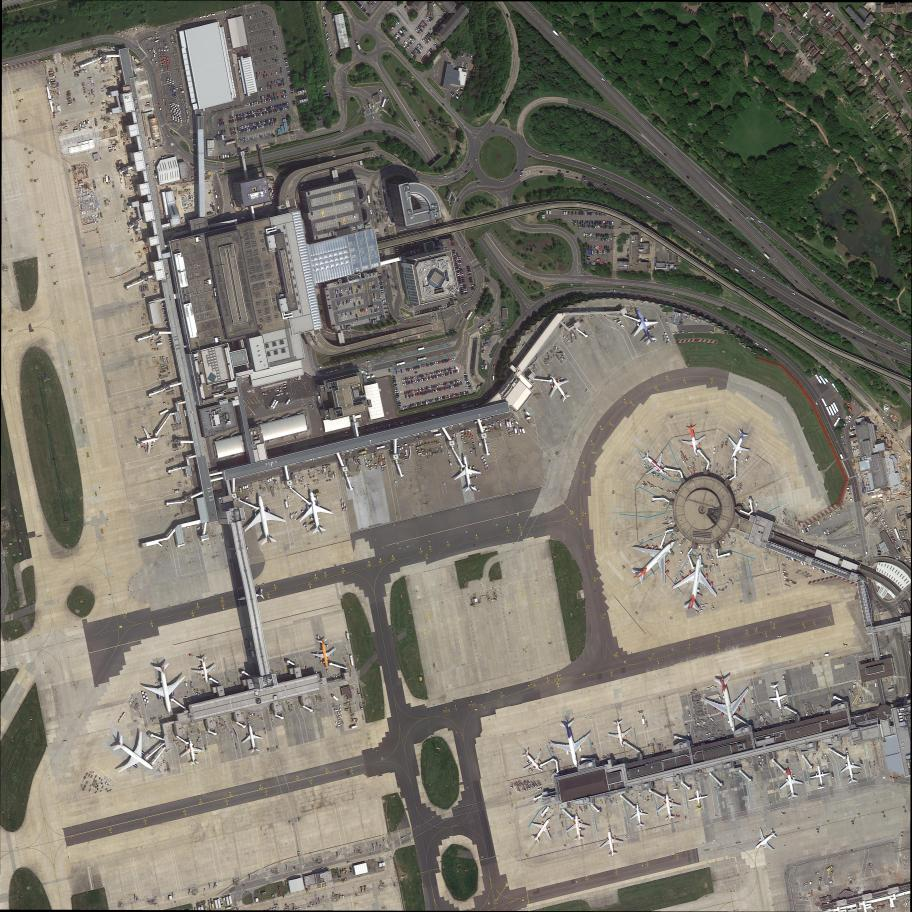large-vehicle: (893, 528, 901, 541), (833, 417, 841, 428), (815, 374, 823, 384), (819, 375, 827, 385), (828, 406, 835, 416), (833, 402, 839, 413), (821, 398, 828, 407), (831, 404, 837, 414), (552, 30, 560, 37), (826, 407, 832, 416), (887, 687, 895, 693), (525, 783, 531, 790), (532, 781, 538, 788), (415, 120, 420, 127), (516, 786, 521, 793), (303, 522, 309, 527), (521, 786, 526, 792), (513, 782, 518, 788), (890, 679, 894, 686), (823, 653, 830, 657), (842, 643, 849, 647), (826, 528, 830, 535), (794, 520, 798, 527), (526, 780, 531, 785), (529, 784, 534, 789), (162, 356, 166, 362), (167, 357, 170, 364), (787, 520, 790, 527), (522, 782, 526, 787), (874, 681, 877, 687), (160, 356, 163, 362), (510, 782, 513, 788), (785, 518, 787, 525), (276, 394, 280, 397)
plane: (614, 520, 695, 600), (100, 716, 174, 792), (699, 667, 760, 738), (133, 656, 193, 722), (236, 485, 291, 557), (667, 549, 725, 617), (543, 711, 600, 776), (288, 480, 341, 544), (622, 298, 671, 355), (633, 443, 677, 487), (717, 424, 759, 470), (743, 819, 786, 862), (538, 367, 580, 410), (512, 741, 554, 783), (521, 808, 562, 851), (449, 451, 485, 498), (306, 633, 343, 672), (603, 715, 638, 755), (774, 762, 808, 802), (593, 824, 627, 861), (834, 748, 865, 788), (176, 734, 209, 771), (653, 787, 685, 825), (678, 423, 710, 460), (238, 720, 268, 758), (189, 653, 221, 688), (806, 758, 835, 795), (563, 810, 593, 845), (626, 799, 652, 831), (684, 785, 712, 813), (766, 682, 791, 712)
small-vehicle: (524, 410, 530, 417), (513, 420, 519, 425), (889, 528, 894, 534), (750, 216, 755, 221), (878, 52, 883, 57), (294, 511, 299, 516), (907, 449, 912, 454), (456, 198, 460, 204), (184, 681, 188, 687), (145, 104, 151, 108), (154, 39, 160, 43), (249, 126, 253, 132), (687, 732, 691, 738), (518, 427, 522, 433), (404, 420, 410, 424), (430, 47, 434, 52), (427, 50, 431, 55), (323, 21, 327, 26), (326, 36, 330, 41), (428, 88, 433, 92), (387, 130, 392, 134), (404, 29, 408, 34), (395, 33, 399, 38), (300, 183, 304, 188), (763, 347, 768, 351), (663, 152, 667, 157), (757, 220, 762, 224), (823, 7, 827, 12), (843, 419, 848, 423), (905, 87, 910, 91), (900, 79, 905, 83), (801, 61, 805, 66), (514, 169, 518, 174), (646, 195, 651, 199), (603, 183, 608, 187), (509, 136, 514, 140), (456, 92, 461, 96), (455, 95, 459, 100), (461, 125, 466, 129), (852, 336, 857, 340), (844, 377, 849, 381), (894, 429, 899, 433), (900, 439, 904, 444), (848, 415, 853, 419), (847, 417, 852, 421), (820, 317, 825, 321), (697, 230, 702, 234), (734, 268, 739, 272), (751, 269, 756, 273), (773, 258, 777, 263), (794, 306, 799, 310), (815, 871, 820, 875), (620, 324, 625, 328), (679, 551, 684, 555), (669, 521, 674, 525), (478, 326, 483, 330), (879, 497, 884, 501), (880, 518, 885, 522), (823, 531, 827, 536), (800, 539, 805, 543), (379, 200, 382, 206), (859, 697, 862, 703), (120, 178, 123, 184), (640, 237, 643, 243), (478, 441, 481, 447), (401, 27, 405, 31), (388, 29, 392, 33), (397, 31, 401, 35), (400, 34, 404, 38), (401, 32, 405, 36), (400, 28, 404, 32), (409, 35, 413, 39), (409, 41, 413, 45), (418, 43, 422, 47), (417, 50, 421, 54), (412, 50, 416, 54), (411, 51, 415, 55), (417, 44, 421, 48), (419, 47, 423, 51), (418, 49, 422, 53), (410, 53, 414, 57), (393, 47, 397, 51), (397, 19, 401, 23), (358, 4, 362, 8), (360, 6, 364, 10), (362, 8, 366, 12), (365, 12, 369, 16), (420, 59, 424, 63), (421, 57, 425, 61), (420, 21, 424, 25), (421, 20, 425, 24), (424, 23, 428, 27), (423, 24, 427, 28), (415, 28, 419, 32), (422, 39, 426, 43), (426, 39, 430, 43), (429, 36, 433, 40), (424, 42, 428, 46), (418, 24, 422, 28), (417, 26, 421, 30), (430, 29, 434, 33), (433, 44, 437, 48), (422, 56, 426, 60), (426, 52, 430, 56), (425, 54, 429, 58), (424, 17, 428, 21), (425, 16, 429, 20), (416, 46, 420, 50), (329, 54, 333, 58), (363, 52, 367, 56), (329, 51, 333, 55), (379, 89, 383, 93), (322, 16, 326, 20), (394, 35, 398, 39), (399, 29, 403, 33), (396, 32, 400, 36), (408, 37, 412, 41), (411, 40, 415, 44), (412, 38, 416, 42), (404, 41, 408, 45), (403, 42, 407, 46), (402, 44, 406, 48), (359, 5, 363, 9), (428, 32, 432, 36), (825, 9, 829, 13), (772, 30, 776, 34), (760, 2, 764, 6), (686, 175, 690, 179), (828, 16, 832, 20), (834, 26, 838, 30), (777, 17, 781, 21), (821, 5, 825, 9), (839, 27, 843, 31), (805, 49, 809, 53), (897, 115, 901, 119), (799, 59, 803, 63), (866, 35, 870, 39), (888, 79, 892, 83), (885, 42, 889, 46), (865, 34, 869, 38), (877, 78, 881, 82), (847, 419, 851, 423), (464, 170, 468, 174), (441, 103, 445, 107), (656, 201, 660, 205), (859, 330, 863, 334), (874, 343, 878, 347), (876, 408, 880, 412), (882, 416, 886, 420), (728, 218, 732, 222), (746, 272, 750, 276), (748, 277, 752, 281), (245, 496, 249, 500), (292, 511, 296, 515), (155, 682, 159, 686), (175, 743, 179, 747), (744, 458, 748, 462), (755, 342, 759, 346), (532, 784, 536, 788), (523, 780, 527, 784), (467, 428, 471, 432), (488, 424, 492, 428), (487, 231, 491, 235), (460, 292, 464, 296), (397, 317, 401, 321), (402, 317, 406, 321), (464, 302, 468, 306), (463, 247, 467, 251), (884, 524, 888, 528), (885, 527, 889, 531), (890, 535, 894, 539), (892, 538, 896, 542), (897, 547, 901, 551), (898, 549, 902, 553), (882, 521, 886, 525), (879, 516, 883, 520), (401, 836, 405, 840), (358, 431, 362, 435), (366, 429, 370, 433), (462, 53, 465, 58), (433, 2, 436, 7), (326, 31, 329, 36), (372, 105, 375, 110), (372, 115, 375, 120), (386, 209, 389, 214), (396, 20, 399, 25), (373, 200, 376, 205), (375, 208, 378, 213), (240, 217, 245, 220), (353, 214, 356, 219), (332, 218, 335, 223), (688, 8, 691, 13), (689, 9, 692, 14), (842, 424, 847, 427), (855, 448, 858, 453), (846, 487, 851, 490), (847, 489, 852, 492), (868, 7, 871, 12), (851, 425, 854, 430), (520, 170, 525, 173), (443, 175, 448, 178), (591, 167, 596, 170), (582, 179, 587, 182), (459, 89, 464, 92), (506, 13, 509, 18), (825, 324, 830, 327), (841, 426, 846, 429), (723, 258, 728, 261), (737, 257, 742, 260), (762, 287, 767, 290), (791, 292, 796, 295), (287, 502, 290, 507), (283, 386, 288, 389), (222, 154, 225, 159), (227, 153, 230, 158), (335, 674, 338, 679), (248, 127, 251, 132), (230, 202, 233, 207), (155, 175, 158, 180), (217, 205, 220, 210), (162, 309, 167, 312), (146, 102, 151, 105), (87, 119, 90, 124), (809, 881, 812, 886), (83, 121, 86, 126), (112, 146, 117, 149), (266, 94, 269, 99), (270, 97, 273, 102), (256, 76, 259, 81), (282, 90, 285, 95), (274, 117, 277, 122), (829, 513, 832, 518), (434, 374, 437, 379), (408, 394, 411, 399), (451, 357, 454, 362), (419, 364, 422, 369), (405, 367, 408, 372), (402, 382, 405, 387), (427, 372, 430, 377), (439, 369, 442, 374), (437, 370, 440, 375), (616, 321, 621, 324), (755, 503, 758, 508), (460, 381, 463, 386), (458, 382, 461, 387), (499, 422, 502, 427), (594, 224, 597, 229), (467, 273, 472, 276), (383, 270, 386, 275), (421, 309, 424, 314), (424, 308, 427, 313), (426, 308, 429, 313), (431, 307, 434, 312), (414, 310, 417, 315), (463, 290, 468, 293), (445, 303, 448, 308), (442, 304, 445, 309), (877, 550, 882, 553), (877, 553, 882, 556), (865, 551, 868, 556), (383, 254, 386, 259), (433, 242, 436, 247), (405, 252, 408, 257), (449, 462, 452, 467), (460, 430, 465, 433), (448, 301, 451, 306), (403, 405, 406, 410), (425, 400, 428, 405), (329, 370, 334, 373), (333, 369, 338, 372), (379, 388, 382, 393), (416, 402, 419, 407), (397, 38, 400, 42), (415, 47, 418, 51), (416, 52, 420, 55), (414, 49, 417, 53), (414, 54, 417, 58), (390, 28, 393, 32), (392, 25, 396, 28), (404, 5, 407, 9), (421, 46, 425, 49), (368, 13, 371, 17), (367, 1, 370, 5), (393, 24, 397, 27), (416, 27, 419, 31), (419, 30, 422, 34), (428, 19, 432, 22), (420, 28, 423, 32), (419, 23, 423, 26), (439, 20, 443, 23), (427, 20, 430, 24), (424, 55, 427, 59), (429, 49, 432, 53), (435, 42, 438, 46), (470, 55, 473, 59), (465, 63, 468, 67), (443, 50, 446, 54), (407, 44, 410, 48), (405, 47, 408, 51), (324, 24, 327, 28), (323, 19, 326, 23), (285, 61, 289, 64), (285, 65, 289, 68), (286, 68, 290, 71), (287, 70, 291, 73), (278, 59, 281, 63), (385, 205, 388, 209), (372, 1, 375, 5), (403, 31, 406, 35), (370, 4, 373, 8), (407, 38, 410, 42), (408, 43, 412, 46), (338, 222, 341, 226), (331, 232, 334, 236), (684, 6, 687, 10), (778, 23, 781, 27), (789, 30, 792, 34), (830, 14, 834, 17), (691, 11, 694, 15), (853, 450, 856, 454), (693, 12, 696, 16), (846, 485, 850, 488), (686, 7, 689, 11), (424, 36, 427, 40), (884, 88, 887, 92), (901, 100, 904, 104), (898, 110, 901, 114), (898, 113, 902, 116), (821, 756, 824, 760), (854, 679, 857, 683), (856, 711, 860, 714), (857, 49, 861, 52), (814, 60, 818, 63), (805, 65, 808, 69), (863, 3, 867, 6), (856, 46, 860, 49), (881, 55, 884, 59), (849, 426, 852, 430), (453, 178, 457, 181), (520, 174, 524, 177), (565, 170, 569, 173), (575, 176, 579, 179), (582, 175, 586, 178), (476, 182, 480, 185), (458, 91, 462, 94), (428, 37, 431, 41), (460, 87, 464, 90), (502, 101, 505, 105), (450, 92, 453, 96), (452, 93, 455, 97), (606, 188, 610, 191), (669, 207, 673, 210), (903, 348, 907, 351), (878, 337, 882, 340), (885, 352, 889, 355), (794, 280, 798, 283), (707, 237, 710, 241), (771, 279, 775, 282), (761, 246, 764, 250), (284, 58, 288, 61), (217, 131, 220, 135), (293, 517, 296, 521), (282, 383, 286, 386), (216, 156, 219, 160), (197, 527, 201, 530), (197, 693, 201, 696), (186, 700, 190, 703), (178, 745, 181, 749), (213, 137, 216, 141), (283, 52, 287, 55), (254, 122, 257, 126), (271, 118, 274, 122), (272, 122, 275, 126), (270, 122, 273, 126), (220, 130, 223, 134), (193, 143, 197, 146), (153, 160, 156, 164), (154, 146, 158, 149), (829, 881, 833, 884), (79, 124, 82, 128), (81, 122, 83, 128), (108, 147, 112, 150), (248, 103, 251, 107), (253, 102, 256, 106), (264, 99, 267, 103), (282, 107, 285, 111), (278, 108, 281, 112), (272, 106, 275, 110), (245, 112, 248, 116), (260, 112, 263, 116), (276, 92, 279, 96), (279, 83, 282, 87), (277, 96, 280, 100), (262, 74, 265, 78), (280, 91, 283, 95), (260, 87, 263, 91), (278, 79, 281, 83), (281, 95, 284, 99), (284, 90, 287, 94), (233, 127, 236, 131), (275, 105, 278, 109), (292, 100, 296, 103), (218, 119, 221, 123), (228, 120, 231, 124), (236, 127, 239, 131), (236, 118, 239, 122), (239, 117, 242, 121), (267, 107, 270, 111), (287, 106, 290, 110), (283, 103, 286, 107), (277, 104, 280, 108), (241, 117, 244, 121), (250, 111, 253, 115), (453, 384, 456, 388), (409, 390, 412, 394), (446, 372, 449, 376), (431, 375, 434, 379), (407, 381, 410, 385), (424, 377, 427, 381), (449, 371, 452, 375), (435, 370, 438, 374), (447, 368, 450, 372), (448, 385, 451, 389), (404, 395, 407, 399), (419, 388, 422, 392), (441, 383, 444, 387), (435, 388, 438, 392), (443, 386, 446, 390), (438, 387, 441, 391), (433, 388, 436, 392), (418, 392, 421, 396), (428, 389, 431, 393), (428, 363, 431, 367), (436, 361, 439, 365), (424, 363, 427, 367), (403, 378, 406, 382), (446, 358, 449, 362), (444, 359, 447, 363), (464, 374, 468, 377), (441, 359, 444, 363), (413, 376, 416, 380), (436, 374, 439, 378), (426, 377, 429, 381), (416, 379, 419, 383), (451, 371, 454, 375), (415, 375, 418, 379), (429, 372, 432, 376), (456, 369, 459, 373), (456, 379, 459, 383), (593, 245, 596, 249), (593, 260, 595, 266), (679, 559, 682, 563), (649, 539, 653, 542), (648, 534, 652, 537), (496, 420, 499, 424), (450, 385, 453, 389), (483, 418, 487, 421), (464, 292, 468, 295), (463, 288, 467, 291), (462, 284, 466, 287), (462, 280, 466, 283), (467, 269, 471, 272), (468, 277, 472, 280), (469, 279, 473, 282), (459, 287, 463, 290), (458, 281, 462, 284), (453, 255, 457, 258), (452, 251, 456, 254), (452, 253, 456, 256), (459, 267, 463, 270), (460, 269, 464, 272), (460, 271, 464, 274), (471, 288, 475, 291), (457, 256, 461, 259), (431, 316, 435, 319), (428, 308, 431, 312), (435, 306, 438, 310), (467, 271, 471, 274), (457, 274, 461, 277), (459, 285, 463, 288), (482, 324, 486, 327), (456, 252, 459, 256), (451, 244, 455, 247), (886, 529, 890, 532), (889, 534, 893, 537), (893, 540, 897, 543), (849, 498, 853, 501), (836, 551, 839, 555), (802, 528, 804, 534), (812, 543, 815, 547), (833, 551, 836, 555), (874, 516, 877, 520), (896, 546, 900, 549), (886, 499, 890, 502), (902, 467, 904, 473), (396, 252, 400, 255), (450, 238, 454, 241), (451, 242, 455, 245), (850, 433, 854, 436), (394, 481, 397, 485), (447, 450, 450, 454), (453, 433, 456, 437), (395, 248, 399, 251), (394, 387, 398, 390), (395, 389, 399, 392), (395, 391, 399, 394), (397, 400, 401, 403), (401, 407, 404, 411), (395, 370, 398, 374), (371, 428, 375, 431), (375, 427, 379, 430), (393, 423, 397, 426), (400, 422, 404, 425), (88, 77, 93, 79), (334, 39, 336, 44), (254, 60, 256, 65), (273, 30, 275, 35), (250, 15, 252, 20), (250, 40, 252, 45), (382, 214, 384, 219), (377, 219, 379, 224), (376, 212, 378, 217), (311, 211, 313, 216), (354, 226, 356, 231), (853, 684, 855, 689), (475, 157, 477, 162), (210, 203, 212, 208), (239, 138, 241, 143), (262, 120, 264, 125), (274, 121, 276, 126), (163, 316, 168, 318), (165, 325, 170, 327), (3, 64, 8, 66), (111, 66, 113, 71), (224, 129, 226, 134), (230, 127, 232, 132), (232, 115, 234, 120), (272, 109, 274, 114), (274, 96, 276, 101), (268, 93, 270, 98), (273, 92, 275, 97), (270, 85, 272, 90), (219, 122, 221, 127), (229, 115, 231, 120), (266, 123, 268, 128), (253, 126, 255, 131), (252, 126, 254, 131), (238, 117, 240, 122), (276, 108, 278, 113), (251, 114, 253, 119), (445, 372, 447, 377), (418, 378, 420, 383), (428, 376, 430, 381), (447, 385, 449, 390), (438, 383, 440, 388), (419, 374, 421, 379), (411, 366, 413, 371), (407, 367, 409, 372), (430, 362, 432, 367), (448, 371, 450, 376), (415, 379, 417, 384), (405, 377, 407, 382), (446, 368, 448, 373), (590, 232, 592, 237), (605, 220, 607, 225), (592, 250, 594, 255), (645, 259, 650, 261), (641, 539, 643, 544), (597, 211, 599, 216), (387, 274, 389, 279), (395, 285, 397, 290), (430, 307, 432, 312), (458, 284, 463, 286), (444, 304, 446, 309), (410, 241, 412, 246), (403, 444, 408, 446), (449, 454, 451, 459), (412, 250, 414, 255), (447, 303, 449, 308), (375, 272, 377, 277), (415, 402, 417, 407), (420, 401, 422, 406), (439, 396, 441, 401), (431, 414, 436, 416), (398, 37, 401, 40), (356, 2, 359, 5), (409, 55, 412, 58), (357, 3, 360, 6), (413, 56, 416, 59), (427, 34, 430, 37), (423, 38, 426, 41), (406, 46, 409, 49), (371, 3, 374, 6), (425, 35, 428, 38), (771, 29, 774, 32), (798, 58, 801, 61), (698, 2, 701, 5), (901, 111, 904, 114), (456, 94, 459, 97), (533, 11, 536, 14), (890, 350, 893, 353), (813, 317, 816, 320), (762, 276, 765, 279), (700, 243, 703, 246), (769, 245, 772, 248), (163, 402, 166, 405), (196, 692, 199, 695), (247, 124, 250, 127), (283, 95, 286, 98), (222, 122, 225, 125), (454, 370, 457, 373), (429, 386, 432, 389), (465, 378, 468, 381), (660, 739, 663, 742), (471, 286, 474, 289), (454, 259, 457, 262), (891, 537, 894, 540), (878, 528, 881, 531), (896, 544, 899, 547), (394, 385, 397, 388), (343, 435, 346, 438), (382, 425, 385, 428), (467, 54, 469, 58), (323, 7, 325, 11), (378, 191, 380, 195), (275, 59, 277, 63), (276, 71, 278, 75), (271, 73, 273, 77), (259, 72, 261, 76), (278, 55, 280, 59), (251, 28, 253, 32), (265, 12, 267, 16), (274, 35, 276, 39), (276, 47, 278, 51), (356, 226, 358, 230), (308, 191, 310, 195), (316, 236, 318, 240), (328, 233, 330, 237), (841, 438, 845, 440), (842, 440, 846, 442), (842, 442, 846, 444), (852, 446, 856, 448), (852, 448, 854, 452), (848, 491, 852, 493), (812, 753, 816, 755), (853, 425, 855, 429), (539, 171, 543, 173), (557, 170, 561, 172), (501, 180, 505, 182), (491, 131, 495, 133), (457, 87, 459, 91), (287, 76, 291, 78), (287, 74, 291, 76), (287, 495, 289, 499), (284, 488, 286, 492), (219, 156, 221, 160), (169, 344, 173, 346), (333, 674, 335, 678), (165, 751, 169, 753), (250, 714, 252, 718), (271, 718, 273, 722), (224, 135, 226, 139), (252, 122, 254, 126), (259, 122, 261, 126), (264, 120, 266, 124), (268, 119, 270, 123), (244, 129, 246, 133), (247, 128, 249, 132), (256, 126, 258, 130), (258, 125, 260, 129), (260, 125, 262, 129), (261, 125, 263, 129), (251, 122, 253, 126), (249, 123, 251, 127), (221, 122, 223, 126), (240, 138, 242, 142), (242, 138, 244, 142), (244, 137, 246, 141), (222, 130, 224, 134), (217, 122, 219, 126), (222, 118, 224, 122), (232, 128, 234, 132), (246, 124, 248, 128), (231, 132, 233, 136), (233, 131, 235, 135), (239, 130, 241, 134), (240, 126, 242, 130), (243, 125, 245, 129), (245, 125, 247, 129), (169, 342, 173, 344), (168, 337, 172, 339), (166, 329, 170, 331), (153, 166, 155, 170), (214, 189, 216, 193), (215, 194, 217, 198), (161, 303, 165, 305), (162, 307, 166, 309), (163, 314, 167, 316), (164, 321, 168, 323), (165, 327, 169, 329), (85, 70, 87, 74), (109, 150, 113, 152), (95, 160, 99, 162), (263, 125, 265, 129), (286, 106, 288, 110), (287, 102, 289, 106), (254, 114, 256, 118), (245, 104, 247, 108), (247, 103, 249, 107), (252, 102, 254, 106), (257, 101, 259, 105), (263, 99, 265, 103), (262, 95, 264, 99), (264, 95, 266, 99), (268, 98, 270, 102), (255, 110, 257, 114), (235, 119, 237, 123), (238, 114, 240, 118), (241, 113, 243, 117), (244, 113, 246, 117), (252, 111, 254, 115), (253, 110, 255, 114), (271, 106, 273, 110), (261, 108, 263, 112), (263, 108, 265, 112), (265, 108, 267, 112), (267, 111, 269, 115), (266, 99, 268, 103), (269, 98, 271, 102), (272, 97, 274, 101), (260, 96, 262, 100), (261, 100, 263, 104), (256, 72, 258, 76), (264, 71, 266, 75), (266, 74, 268, 78), (280, 70, 282, 74), (278, 83, 280, 87), (259, 88, 261, 92), (285, 94, 287, 98), (267, 86, 269, 90), (275, 84, 277, 88), (274, 80, 276, 84), (281, 82, 283, 86), (282, 78, 284, 82), (268, 82, 270, 86), (271, 81, 273, 85), (234, 114, 236, 118), (274, 105, 276, 109), (269, 122, 271, 126), (289, 85, 293, 87), (289, 87, 293, 89), (290, 88, 294, 90), (290, 90, 294, 92), (290, 92, 294, 94), (220, 118, 222, 122), (232, 119, 234, 123), (236, 114, 238, 118), (268, 123, 270, 127), (264, 124, 266, 128), (234, 131, 236, 135), (240, 130, 242, 134), (242, 129, 244, 133), (245, 128, 247, 132), (254, 126, 256, 130), (260, 121, 262, 125), (265, 120, 267, 124), (270, 118, 272, 122), (273, 118, 275, 122), (269, 106, 271, 110), (273, 109, 275, 113), (275, 109, 277, 113), (281, 107, 283, 111), (260, 108, 262, 112), (282, 103, 284, 107), (280, 104, 282, 108), (279, 104, 281, 108), (266, 107, 268, 111), (258, 109, 260, 113), (242, 113, 244, 117), (246, 116, 248, 120), (248, 115, 250, 119), (249, 111, 251, 115), (249, 115, 251, 119), (265, 111, 267, 115), (252, 114, 254, 118), (256, 113, 258, 117), (257, 113, 259, 117), (259, 112, 261, 116), (262, 112, 264, 116), (777, 635, 781, 637), (782, 519, 784, 523), (406, 391, 408, 395), (407, 390, 409, 394), (423, 387, 425, 391), (426, 386, 428, 390), (434, 384, 436, 388), (443, 382, 445, 386), (444, 382, 446, 386), (450, 381, 452, 385), (455, 379, 457, 383), (457, 383, 459, 387), (411, 380, 413, 384), (423, 378, 425, 382), (433, 375, 435, 379), (444, 368, 446, 372), (449, 367, 451, 371), (453, 370, 455, 374), (467, 391, 469, 395), (407, 395, 409, 399), (411, 389, 413, 393), (413, 393, 415, 397), (410, 394, 412, 398), (416, 389, 418, 393), (428, 386, 430, 390), (436, 384, 438, 388), (440, 383, 442, 387), (446, 381, 448, 385), (411, 393, 413, 397), (415, 393, 417, 397), (432, 389, 434, 393), (445, 386, 447, 390), (440, 387, 442, 391), (437, 388, 439, 392), (430, 389, 432, 393), (427, 390, 429, 394), (425, 390, 427, 394), (424, 391, 426, 395), (422, 391, 424, 395), (417, 392, 419, 396), (406, 381, 408, 385), (421, 374, 423, 378), (412, 376, 414, 380), (453, 357, 455, 361), (440, 360, 442, 364), (448, 358, 450, 362), (435, 361, 437, 365), (423, 364, 425, 368), (421, 364, 423, 368), (409, 367, 411, 371), (402, 378, 404, 382), (443, 359, 445, 363), (466, 382, 470, 384), (398, 370, 400, 374), (401, 369, 403, 373), (414, 366, 416, 370), (416, 365, 418, 369), (418, 365, 420, 369), (426, 363, 428, 367), (431, 362, 433, 366), (407, 377, 409, 381), (409, 377, 411, 381), (420, 378, 422, 382), (442, 373, 444, 377), (440, 373, 442, 377), (438, 374, 440, 378), (430, 376, 432, 380), (421, 378, 423, 382), (413, 380, 415, 384), (409, 381, 411, 385), (404, 382, 406, 386), (410, 376, 412, 380), (443, 373, 445, 377), (417, 375, 419, 379), (422, 374, 424, 378), (424, 373, 426, 377), (431, 372, 433, 376), (441, 369, 443, 373), (443, 369, 445, 373), (451, 367, 453, 371), (453, 366, 455, 370), (454, 366, 456, 370), (453, 380, 455, 384), (458, 379, 460, 383), (589, 225, 591, 229), (597, 233, 599, 237), (599, 233, 601, 237), (604, 237, 606, 241), (585, 233, 587, 237), (587, 233, 589, 237), (589, 233, 591, 237), (592, 233, 594, 237), (594, 233, 596, 237), (595, 237, 597, 241), (602, 237, 604, 241), (607, 237, 609, 241), (605, 225, 607, 229), (588, 220, 590, 224), (595, 220, 597, 224), (612, 225, 614, 229), (603, 221, 605, 225), (606, 221, 608, 225), (608, 221, 610, 225), (610, 221, 612, 225), (610, 226, 612, 230), (597, 246, 599, 250), (605, 246, 607, 250), (607, 246, 609, 250), (626, 255, 630, 257), (591, 742, 593, 746), (768, 803, 772, 805), (597, 250, 599, 254), (600, 246, 602, 250), (591, 261, 593, 265), (595, 250, 597, 254), (600, 250, 602, 254), (603, 262, 605, 266), (605, 261, 607, 265), (626, 238, 628, 242), (586, 224, 588, 228), (689, 714, 691, 718), (686, 562, 688, 566), (452, 384, 454, 388), (488, 417, 492, 419), (491, 423, 495, 425), (512, 422, 514, 426), (695, 469, 697, 473), (563, 211, 565, 215), (595, 211, 597, 215), (600, 212, 602, 216), (575, 220, 577, 224), (586, 220, 588, 224), (565, 212, 567, 216), (585, 211, 587, 215), (593, 211, 595, 215), (612, 221, 614, 225), (571, 220, 573, 224), (568, 211, 570, 215), (571, 211, 573, 215), (578, 211, 580, 215), (468, 385, 472, 387), (465, 391, 467, 395), (816, 534, 818, 538), (470, 285, 474, 287), (460, 291, 464, 293), (463, 286, 467, 288), (461, 277, 465, 279), (466, 266, 470, 268), (466, 268, 470, 270), (469, 281, 473, 283), (458, 260, 462, 262), (453, 257, 457, 259), (454, 261, 458, 263), (458, 280, 462, 282), (455, 267, 459, 269), (456, 271, 460, 273), (457, 276, 461, 278), (457, 278, 461, 280), (462, 392, 464, 396), (417, 320, 421, 322), (418, 310, 420, 314), (420, 310, 422, 314), (423, 309, 425, 313), (433, 307, 435, 311), (407, 322, 411, 324), (417, 311, 419, 315), (459, 266, 463, 268), (456, 269, 460, 271), (456, 272, 460, 274), (452, 250, 456, 252), (816, 544, 818, 548), (405, 243, 407, 247), (380, 253, 382, 257), (402, 244, 404, 248), (404, 243, 406, 247), (412, 241, 414, 245), (417, 240, 419, 244), (415, 240, 417, 244), (414, 240, 416, 244), (407, 252, 409, 256), (404, 253, 406, 257), (410, 251, 412, 255), (414, 250, 416, 254), (437, 306, 439, 310), (396, 397, 400, 399), (405, 405, 407, 409), (413, 403, 415, 407), (432, 398, 434, 402), (393, 382, 397, 384), (366, 361, 370, 363), (325, 372, 329, 374), (345, 431, 349, 433), (440, 396, 442, 400), (447, 395, 449, 399), (429, 399, 431, 403), (410, 404, 412, 408), (412, 403, 414, 407), (379, 197, 381, 200), (359, 226, 361, 229), (797, 57, 799, 60), (841, 436, 844, 438), (887, 47, 890, 49), (217, 210, 219, 213), (225, 155, 227, 158), (241, 126, 243, 129), (284, 107, 286, 110), (255, 102, 257, 105), (258, 101, 260, 104), (257, 110, 259, 113), (245, 117, 247, 120), (280, 67, 282, 70), (277, 80, 279, 83), (265, 87, 267, 90), (293, 103, 296, 105), (230, 120, 232, 123), (256, 122, 258, 125), (268, 111, 270, 114), (270, 110, 272, 113), (285, 103, 287, 106), (243, 117, 245, 120), (239, 114, 241, 117), (247, 112, 249, 115), (264, 112, 266, 115), (421, 388, 423, 391), (433, 385, 435, 388), (451, 381, 453, 384), (404, 392, 406, 395), (455, 384, 457, 387), (413, 390, 415, 393), (448, 382, 450, 385), (442, 387, 444, 390), (420, 392, 422, 395), (450, 358, 452, 361), (415, 371, 418, 373), (433, 362, 435, 365), (438, 361, 440, 364), (434, 371, 436, 374), (432, 372, 434, 375), (600, 238, 602, 241), (609, 234, 611, 237), (603, 226, 605, 229), (593, 226, 595, 229), (591, 221, 593, 224), (608, 226, 610, 229), (607, 234, 609, 237), (614, 320, 617, 322), (627, 248, 630, 250), (627, 253, 630, 255), (749, 763, 752, 765), (595, 246, 597, 249), (627, 246, 630, 248), (650, 245, 652, 248), (591, 225, 593, 228), (588, 225, 590, 228), (684, 724, 687, 726), (573, 220, 575, 223), (578, 225, 580, 228), (583, 225, 585, 228), (590, 212, 592, 215), (600, 225, 602, 228), (618, 227, 621, 229), (598, 225, 600, 228), (462, 279, 465, 281), (460, 289, 463, 291), (455, 263, 458, 265), (455, 265, 458, 267), (461, 274, 464, 276), (849, 493, 852, 495), (843, 544, 845, 547), (845, 544, 847, 547), (876, 545, 879, 547), (877, 548, 880, 550), (451, 241, 454, 243), (396, 251, 399, 253), (444, 248, 447, 250), (397, 399, 400, 401), (427, 400, 429, 403), (434, 399, 436, 402), (445, 396, 447, 399), (184, 697, 188, 698), (168, 340, 172, 341), (258, 122, 259, 126), (267, 119, 268, 123), (280, 108, 281, 112), (415, 389, 416, 393), (432, 385, 433, 389), (426, 373, 427, 377), (413, 366, 414, 370), (601, 233, 602, 237), (602, 225, 603, 229), (600, 220, 601, 224), (590, 220, 591, 224), (602, 220, 603, 224), (599, 246, 600, 250), (604, 246, 605, 250), (588, 245, 589, 249), (599, 250, 600, 254), (604, 250, 605, 254), (577, 220, 578, 224), (580, 220, 581, 224), (582, 220, 583, 224), (585, 220, 586, 224), (587, 212, 588, 216), (592, 212, 593, 216), (607, 225, 608, 229), (582, 211, 583, 215), (575, 211, 576, 215), (580, 211, 581, 215), (457, 259, 461, 260), (458, 263, 462, 264), (841, 550, 842, 554), (409, 405, 410, 409), (907, 91, 910, 92), (882, 5, 883, 8), (418, 389, 419, 392), (596, 233, 597, 236), (603, 234, 604, 237), (597, 221, 598, 224), (599, 220, 600, 223), (627, 251, 630, 252), (590, 246, 591, 249), (602, 262, 603, 265), (599, 212, 600, 215), (602, 212, 603, 215), (589, 212, 590, 215), (580, 224, 581, 227), (582, 224, 583, 227), (597, 225, 598, 228), (819, 535, 820, 538), (345, 435, 348, 436)
